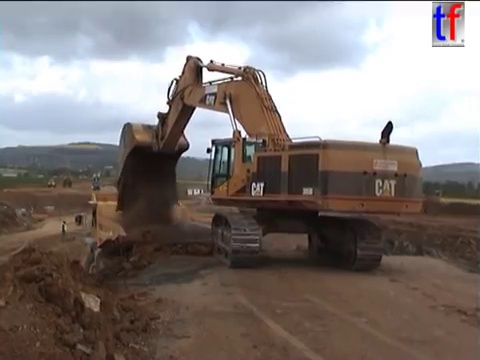excavator: (114, 53, 426, 274)
truck: (74, 190, 218, 292), (161, 195, 244, 252), (382, 192, 441, 218), (61, 175, 73, 188), (45, 177, 56, 188)
worker: (59, 218, 69, 241)
